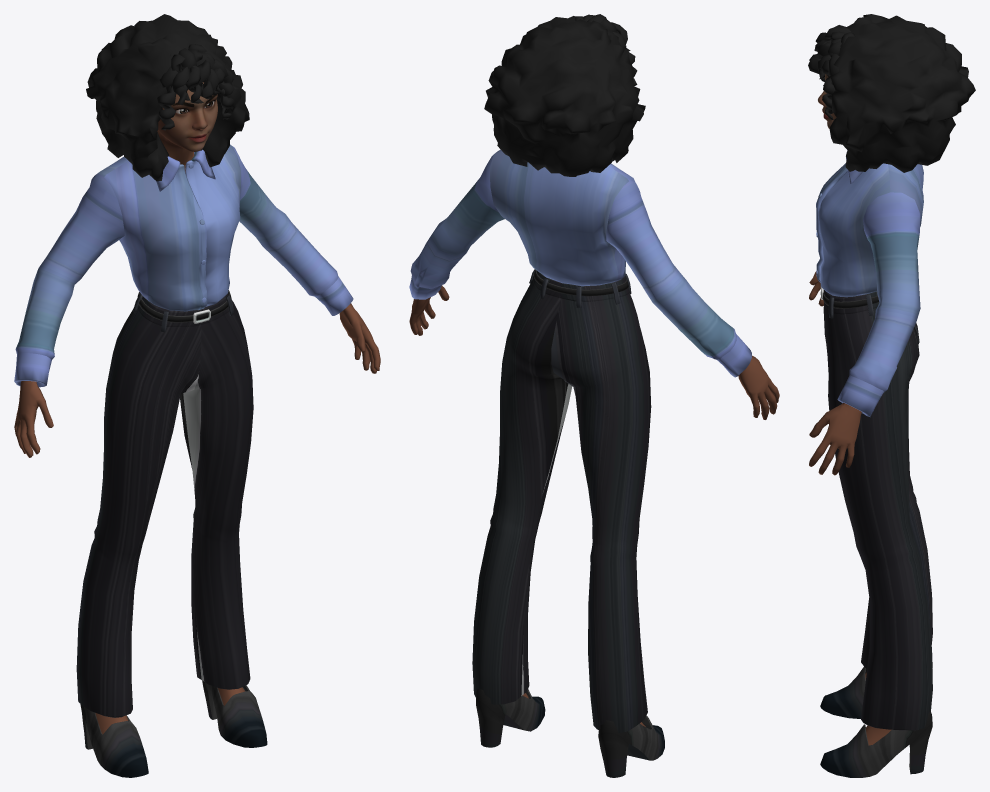
The model's file is clapping.fbx.
3 renders of one model, left to right at view 1: azimuth 30°, elevation 25°; view 2: azimuth 150°, elevation 25°; view 3: azimuth 270°, elevation 25°, orthographic.
Visible parts, largest first — view 1: Wolf3D_Outfit_Bottom, Wolf3D_Outfit_Top, Wolf3D_Hair, Wolf3D_Outfit_Footwear, Wolf3D_Body, Wolf3D_Head; view 2: Wolf3D_Outfit_Bottom, Wolf3D_Outfit_Top, Wolf3D_Hair, Wolf3D_Outfit_Footwear, Wolf3D_Body; view 3: Wolf3D_Outfit_Bottom, Wolf3D_Hair, Wolf3D_Outfit_Top, Wolf3D_Outfit_Footwear, Wolf3D_Body.
Part boxes in pixels (x1,y1,x2,y2): Wolf3D_Outfit_Bottom: [76, 290, 253, 717]; Wolf3D_Outfit_Top: [14, 144, 353, 387]; Wolf3D_Hair: [86, 14, 249, 181]; Wolf3D_Outfit_Footwear: [80, 680, 267, 777]; Wolf3D_Body: [14, 303, 380, 734]; Wolf3D_Head: [157, 82, 217, 172]; Wolf3D_Outfit_Bottom: [472, 269, 651, 732]; Wolf3D_Outfit_Top: [409, 149, 751, 377]; Wolf3D_Hair: [484, 14, 645, 176]; Wolf3D_Outfit_Footwear: [476, 688, 664, 777]; Wolf3D_Body: [409, 285, 779, 726]; Wolf3D_Outfit_Bottom: [820, 284, 932, 730]; Wolf3D_Hair: [808, 14, 975, 172]; Wolf3D_Outfit_Top: [816, 150, 923, 416]; Wolf3D_Outfit_Footwear: [820, 662, 932, 777]; Wolf3D_Body: [809, 271, 891, 745].
Bounding box in the file's own units: 0.9279 × 1.79 × 0.3793.
Materials: 8 (8 with a texture image).
